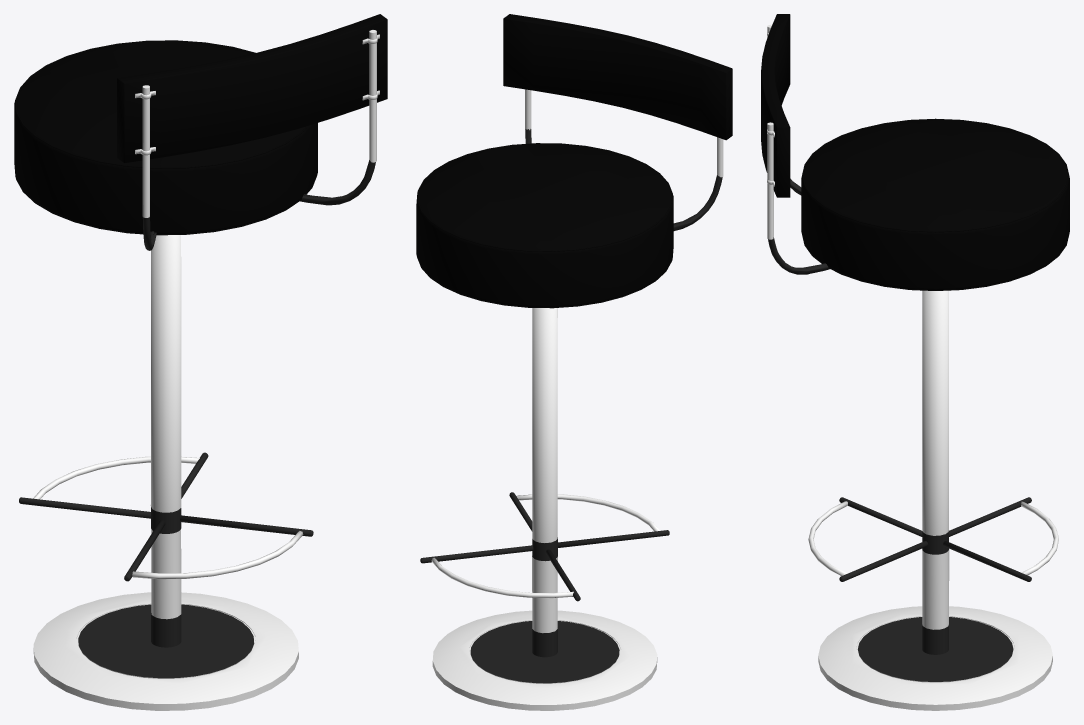
File: stool2.gltf
3 renders of one model, left to right at view 1: azimuth 30°, elevation 25°; view 2: azimuth 150°, elevation 25°; view 3: azimuth 270°, elevation 25°, orthographic. The views are drawn at different scales.
Parts seen in each view (by area): view 1: Sit, Chromes, Rest, Chromes_Chrome_0.002; view 2: Sit, Chromes, Rest, Chromes_Chrome_0.002; view 3: Sit, Chromes, Chromes_Chrome_0.002, Rest.
Part boxes in pixels (<box>): Sit: <box>14,40,317,235</box>; Chromes: <box>19,235,313,678</box>; Rest: <box>117,14,387,250</box>; Chromes_Chrome_0.002: <box>33,592,298,710</box>; Sit: <box>416,143,673,308</box>; Chromes: <box>420,308,669,683</box>; Rest: <box>503,14,732,230</box>; Chromes_Chrome_0.002: <box>432,610,657,710</box>; Sit: <box>801,118,1069,290</box>; Chromes: <box>808,290,1058,681</box>; Chromes_Chrome_0.002: <box>818,606,1052,710</box>; Rest: <box>761,14,829,274</box>.
Bounding box in the file's own units: 0.4 × 0.9709 × 0.46.
3 materials, 2 textured.
